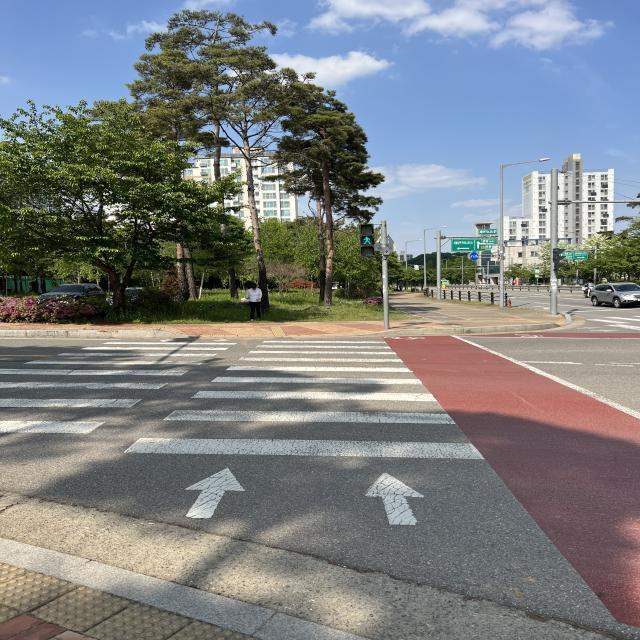crosswalk: (2, 317, 502, 538)
green-light: (361, 228, 381, 259)
